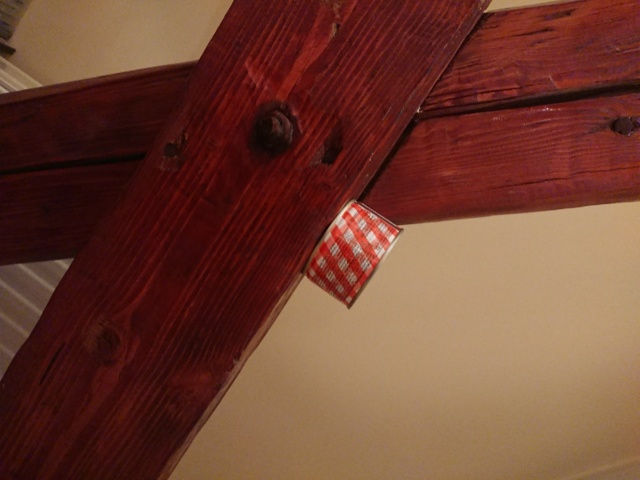Podravka Luncheon Meat 150g: (299, 196, 407, 312)
